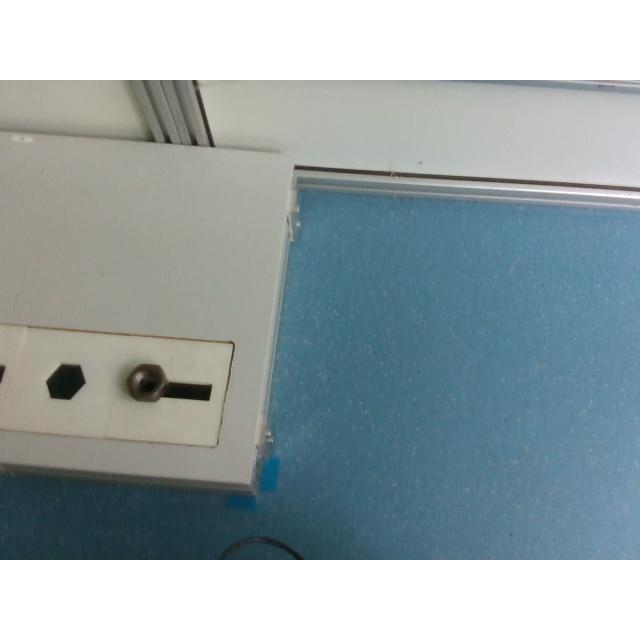M30: (126, 362, 170, 402)
